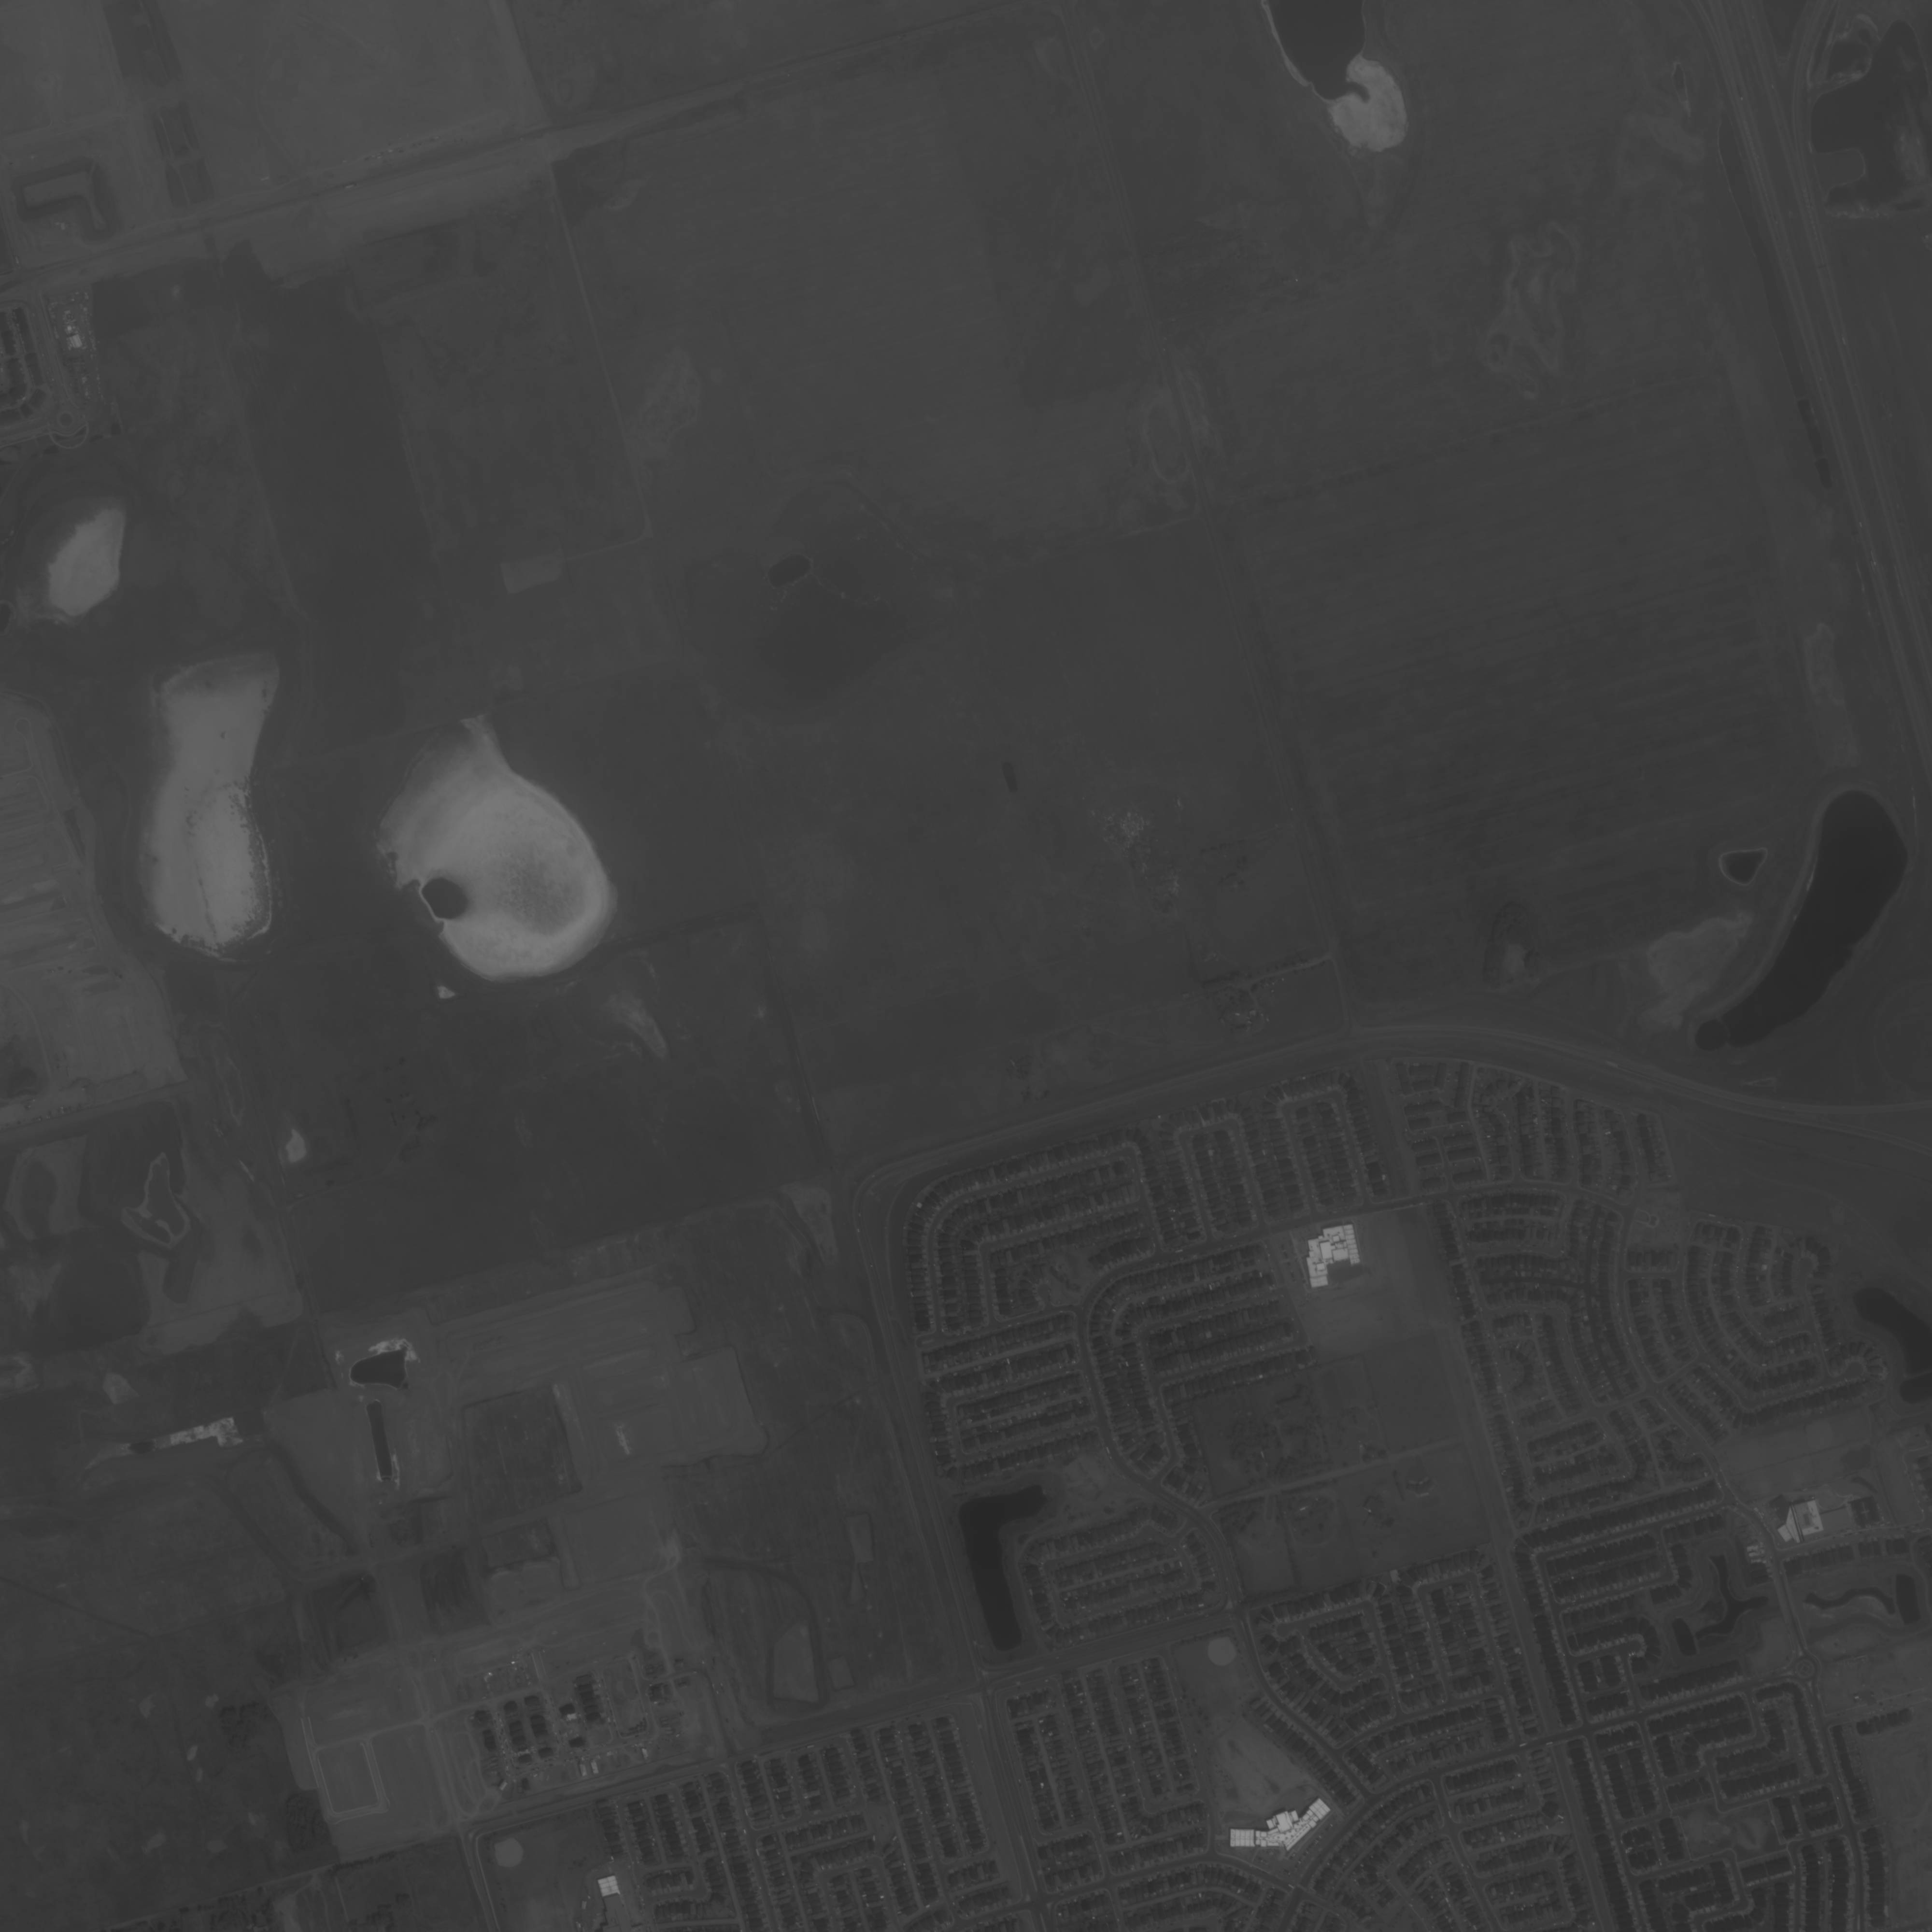baseball diamond: (1200, 1629, 1246, 1675), (488, 1829, 531, 1877)
roundabout: (1794, 1656, 1817, 1683), (55, 410, 76, 430)
